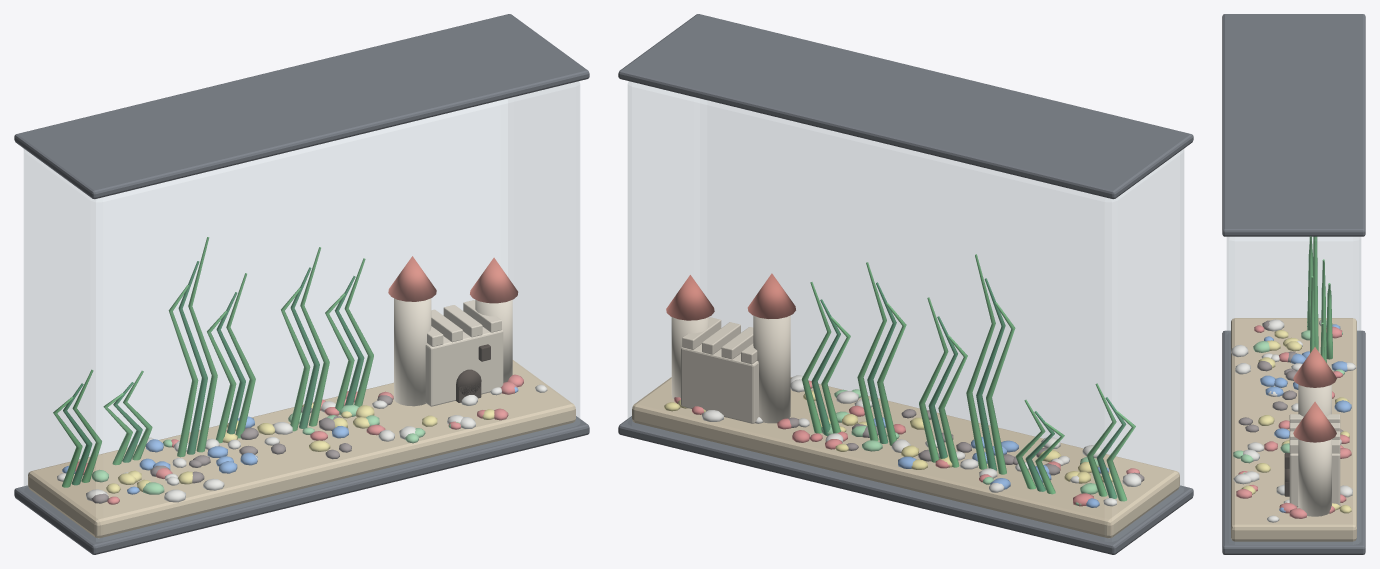
The model's file is bowl.glb.
3 renders of one model, left to right at view 1: azimuth 30°, elevation 25°; view 2: azimuth 150°, elevation 25°; view 3: azimuth 270°, elevation 25°, orthographic. The views are drawn at different scales.
Parts seen in each view (by area): view 1: bowl; view 2: bowl; view 3: bowl.
Boxes of the visible parts, bbox=[...] form: bowl: bbox=[14, 14, 589, 554]; bowl: bbox=[618, 14, 1193, 554]; bowl: bbox=[1222, 14, 1365, 554].
Bounding box in the file's own units: 6.1 × 4.27 × 1.7.
